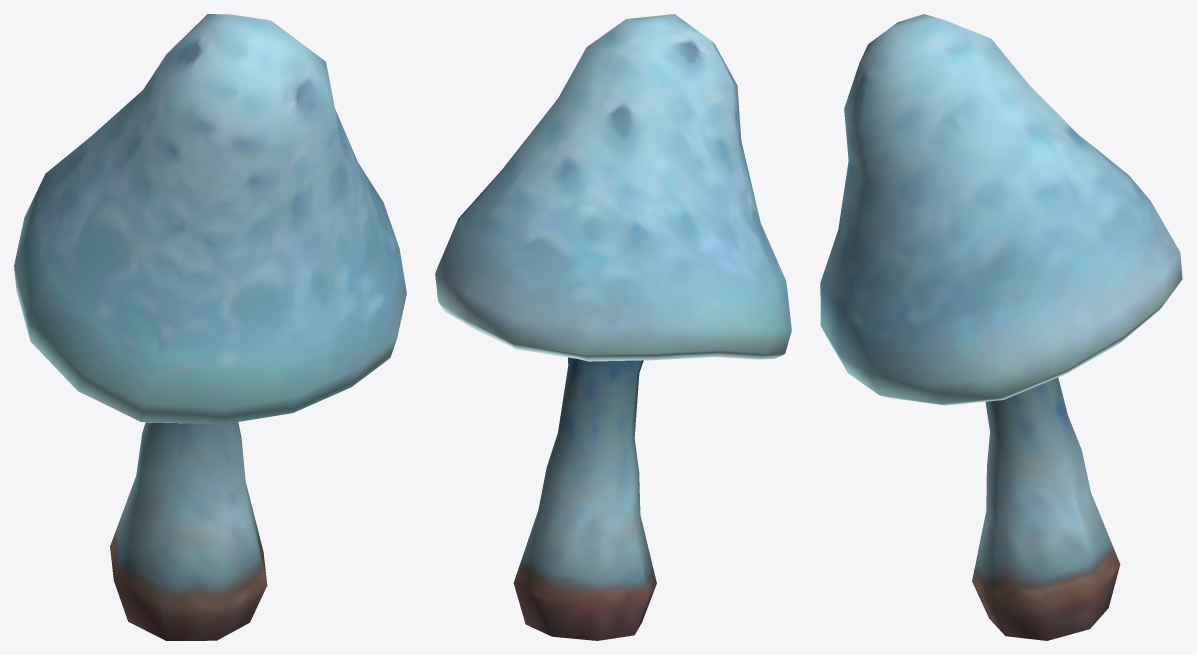
The model's file is map_mg04.fbx.
3 renders of one model, left to right at view 1: azimuth 30°, elevation 25°; view 2: azimuth 150°, elevation 25°; view 3: azimuth 270°, elevation 25°, orthographic. The views are drawn at different scales.
Visible parts, largest first — view 1: map_mg04; view 2: map_mg04; view 3: map_mg04.
Part boxes in pixels (left/top/right/bottom): map_mg04: left=14, top=14, right=406, bottom=640; map_mg04: left=435, top=14, right=791, bottom=640; map_mg04: left=820, top=14, right=1182, bottom=640.
Bounding box in the file's own units: 2.89 × 4.96 × 2.74.
